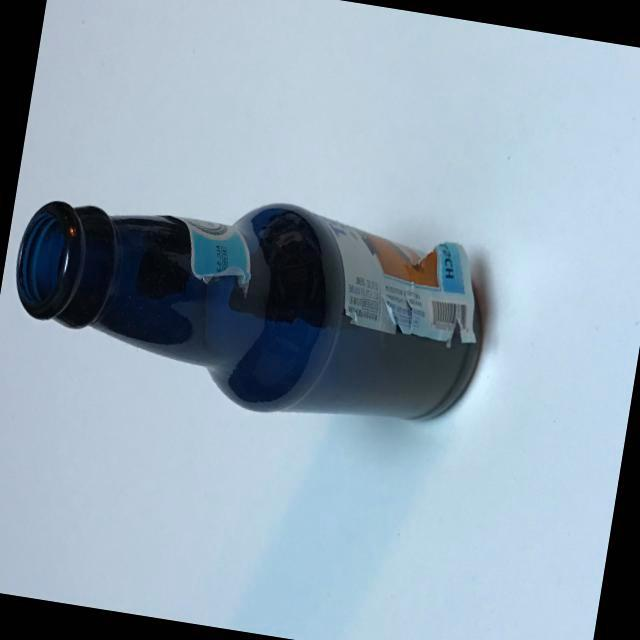glass: (0, 158, 508, 454)
